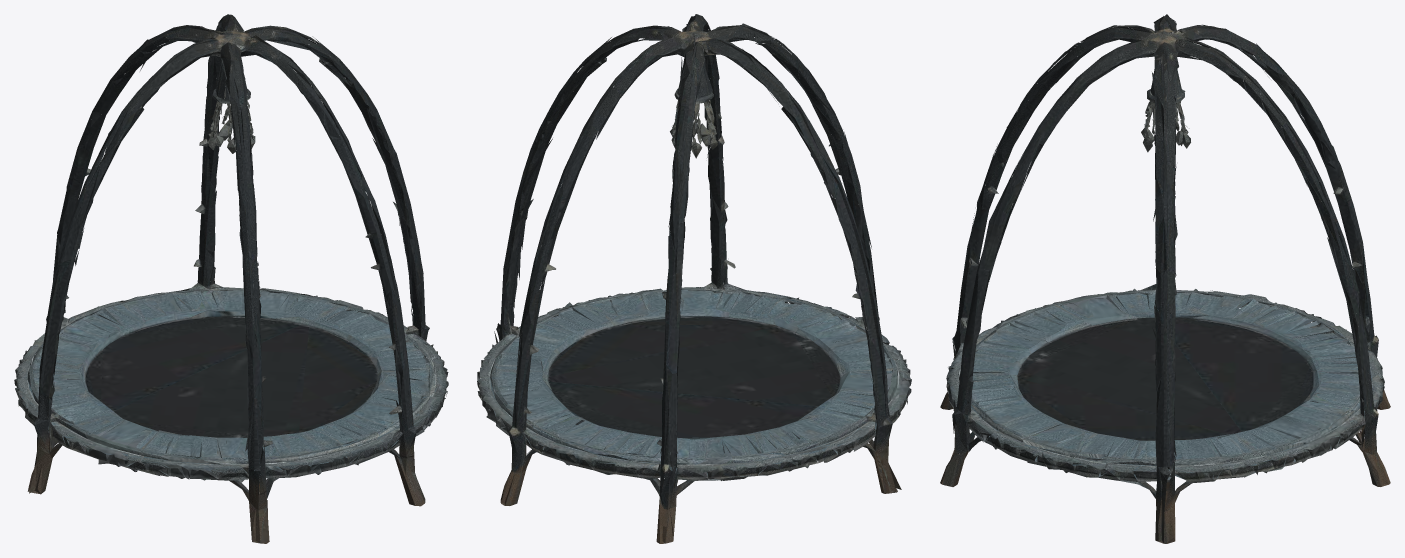
The model's file is trampoline.glb.
3 renders of one model, left to right at view 1: azimuth 30°, elevation 25°; view 2: azimuth 150°, elevation 25°; view 3: azimuth 270°, elevation 25°, orthographic.
Parts seen in each view (by area): view 1: Mesh_0; view 2: Mesh_0; view 3: Mesh_0.
Part boxes in pixels (<box>): Mesh_0: <box>14,14,448,543</box>; Mesh_0: <box>477,14,911,543</box>; Mesh_0: <box>940,14,1390,543</box>.
Size of the model in its own units: 1.8 by 1.73 by 1.71.
1 material, 1 textured.
